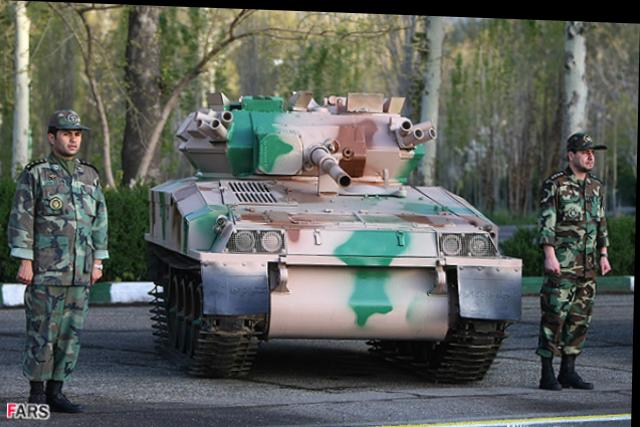other: (8, 108, 107, 410), (537, 128, 615, 384)
tank: (146, 87, 523, 382)
